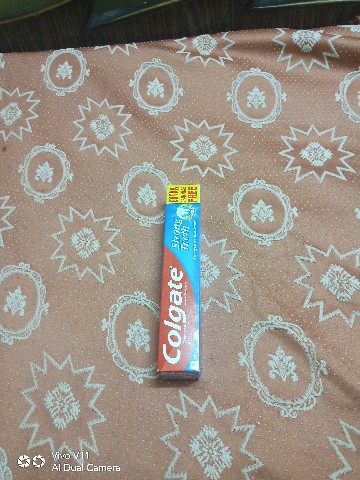colgatetoothpaste big: (146, 169, 216, 398)
